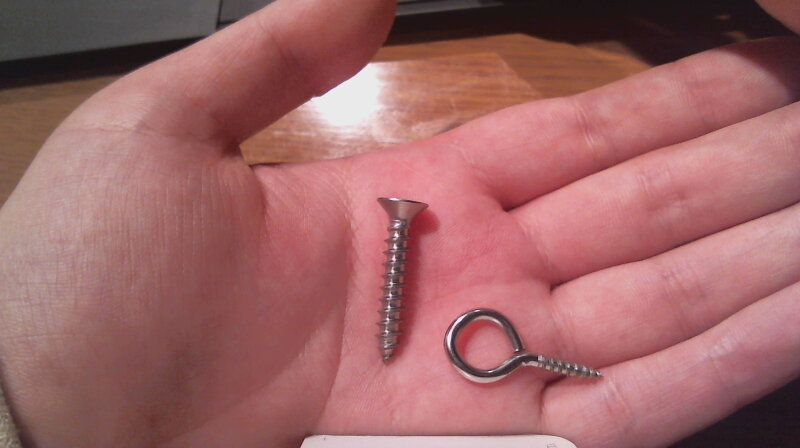O001: (439, 305, 610, 387)
S001: (367, 193, 430, 365)
